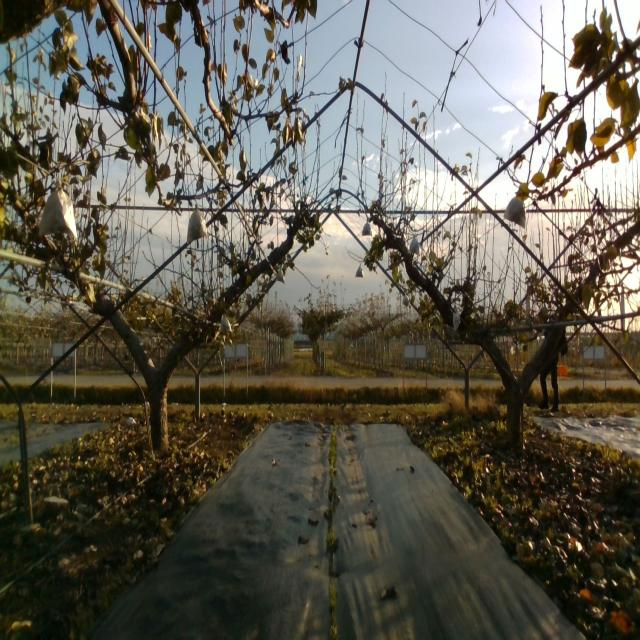pearbags: (39, 179, 77, 242), (187, 204, 210, 244), (503, 196, 526, 229), (219, 312, 232, 336), (361, 219, 374, 237), (409, 235, 420, 256)
